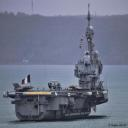Portanaves: (4, 3, 110, 124)
